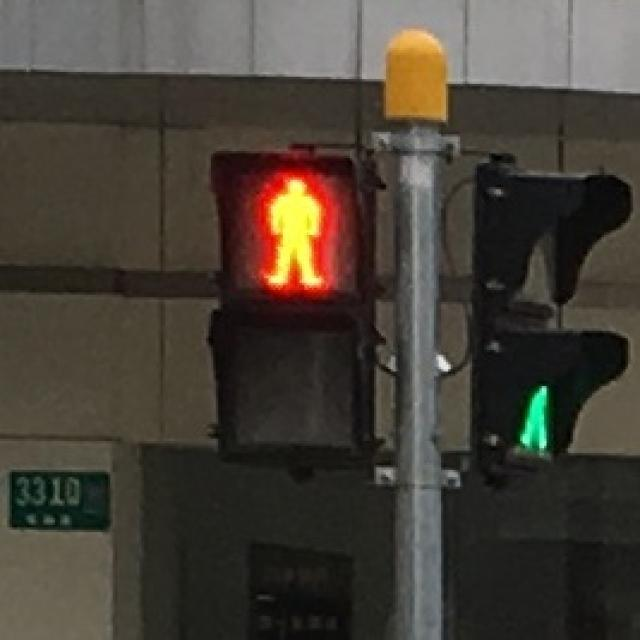red-crossing: (228, 165, 354, 295)
